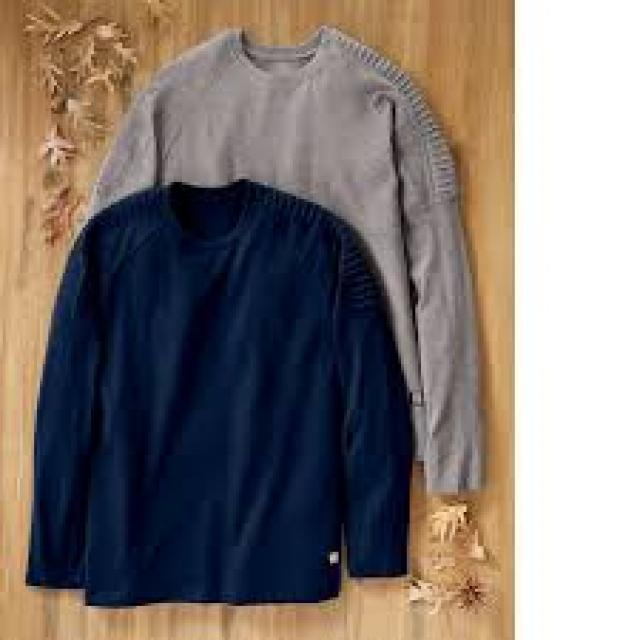plain: (29, 203, 416, 606)
